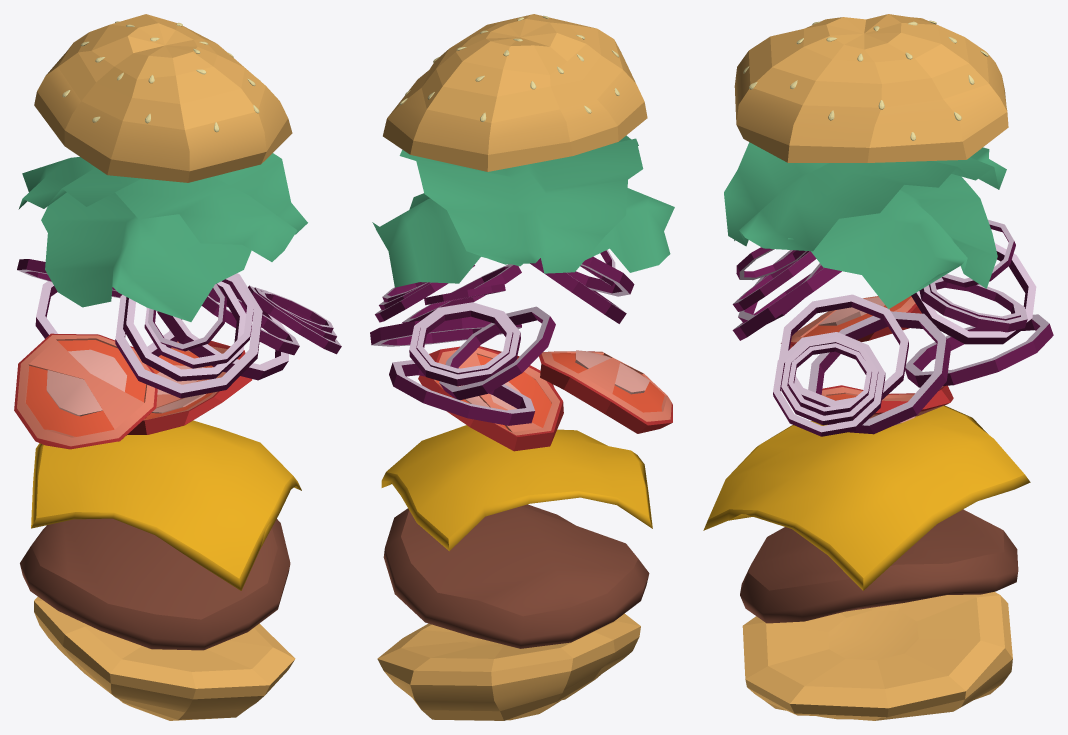
Rendered from bruger.fbx.
3 renders of one model, left to right at view 1: azimuth 30°, elevation 25°; view 2: azimuth 150°, elevation 25°; view 3: azimuth 270°, elevation 25°, orthographic. The views are drawn at different scales.
Visible parts, largest first — view 1: pSphere39; view 2: pSphere39; view 3: pSphere39.
Boxes of the visible parts, x1,y1,x2,y2 form: pSphere39: [14, 14, 341, 720]; pSphere39: [370, 14, 674, 720]; pSphere39: [703, 14, 1053, 720].
Bounding box in the file's own units: 27.82 × 60.62 × 28.35.
